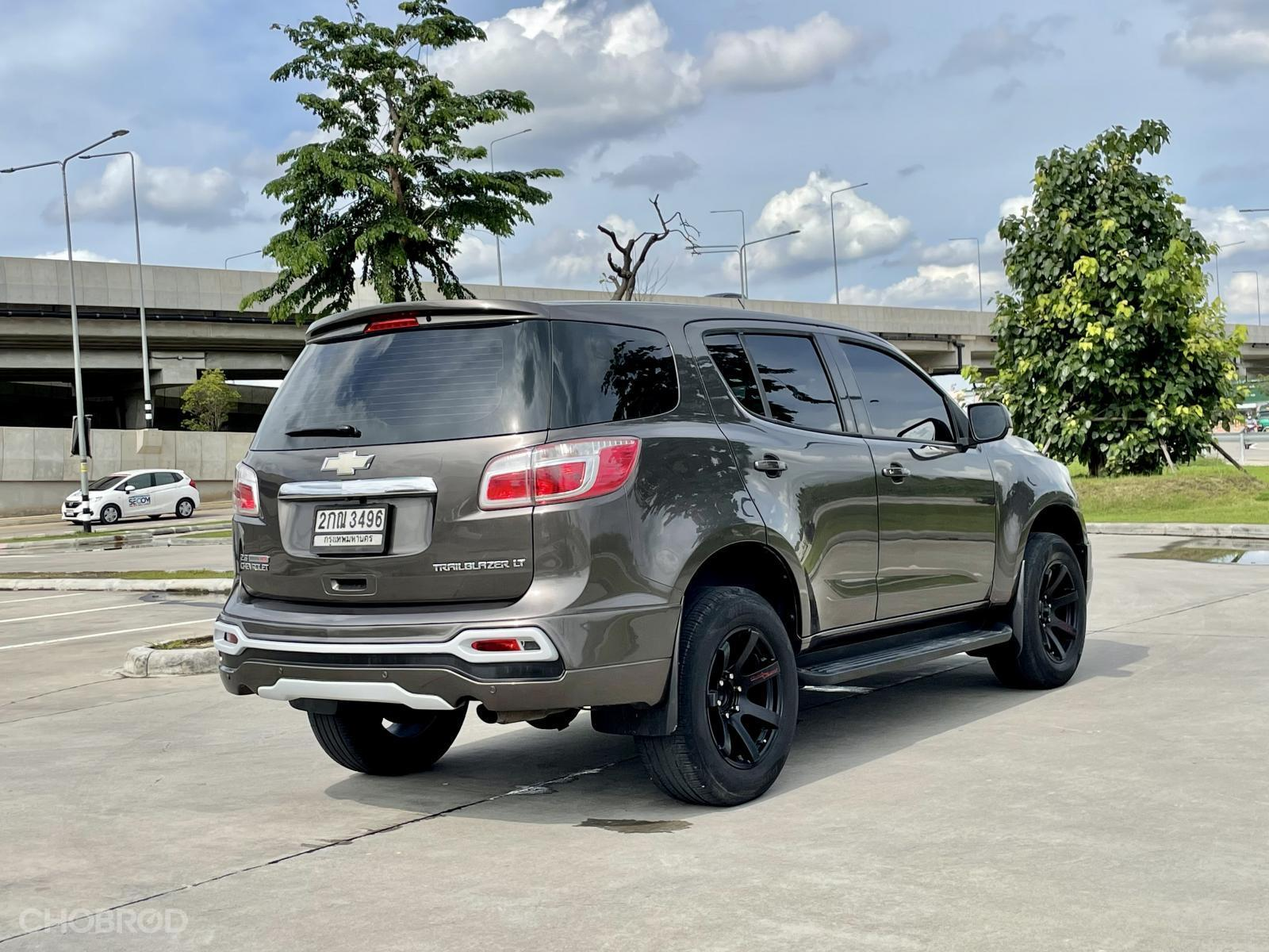license-plate: (310, 502, 391, 555)
